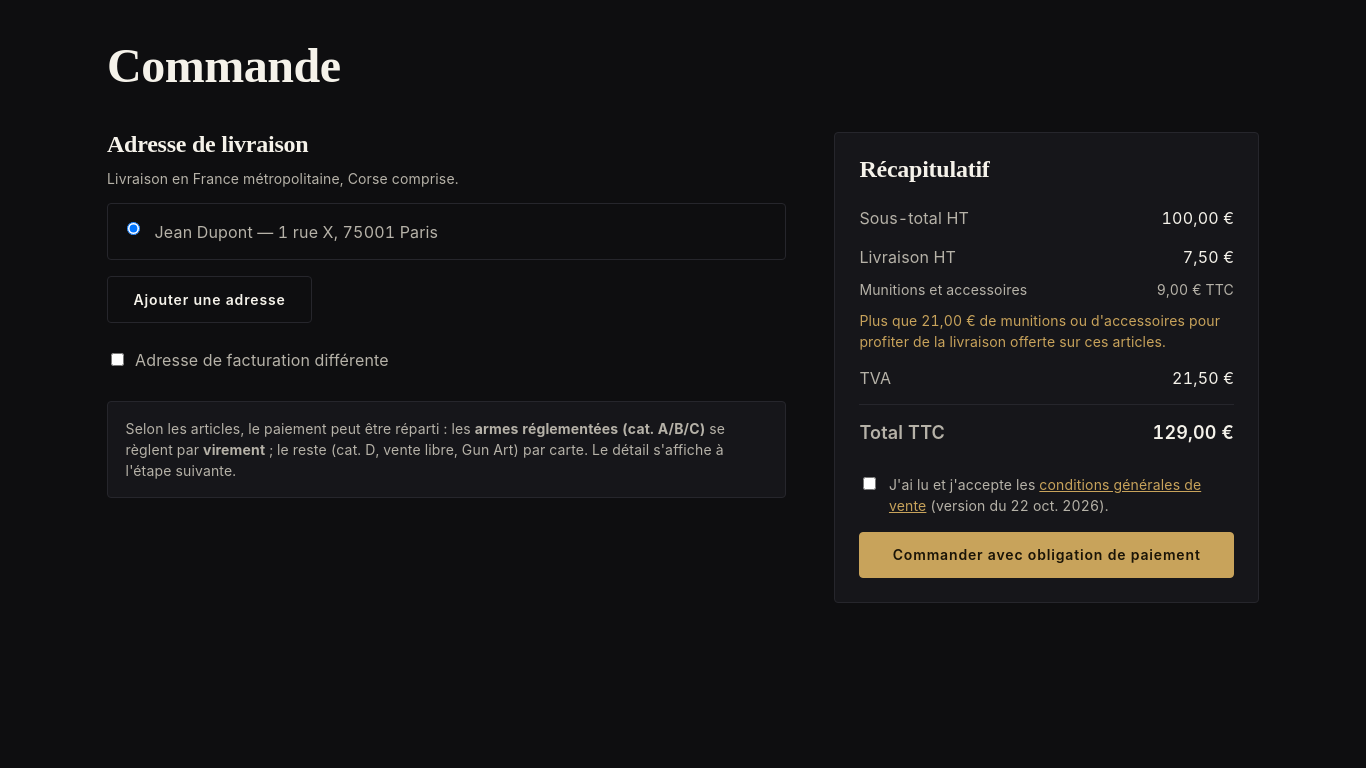
Scenario: commande/index.vue — CGV acceptance (story 12.1) › refuses to order until the CGV are accepted
Click the button with class "summary__cta" at (1047, 555), box [859,532,1234,578]
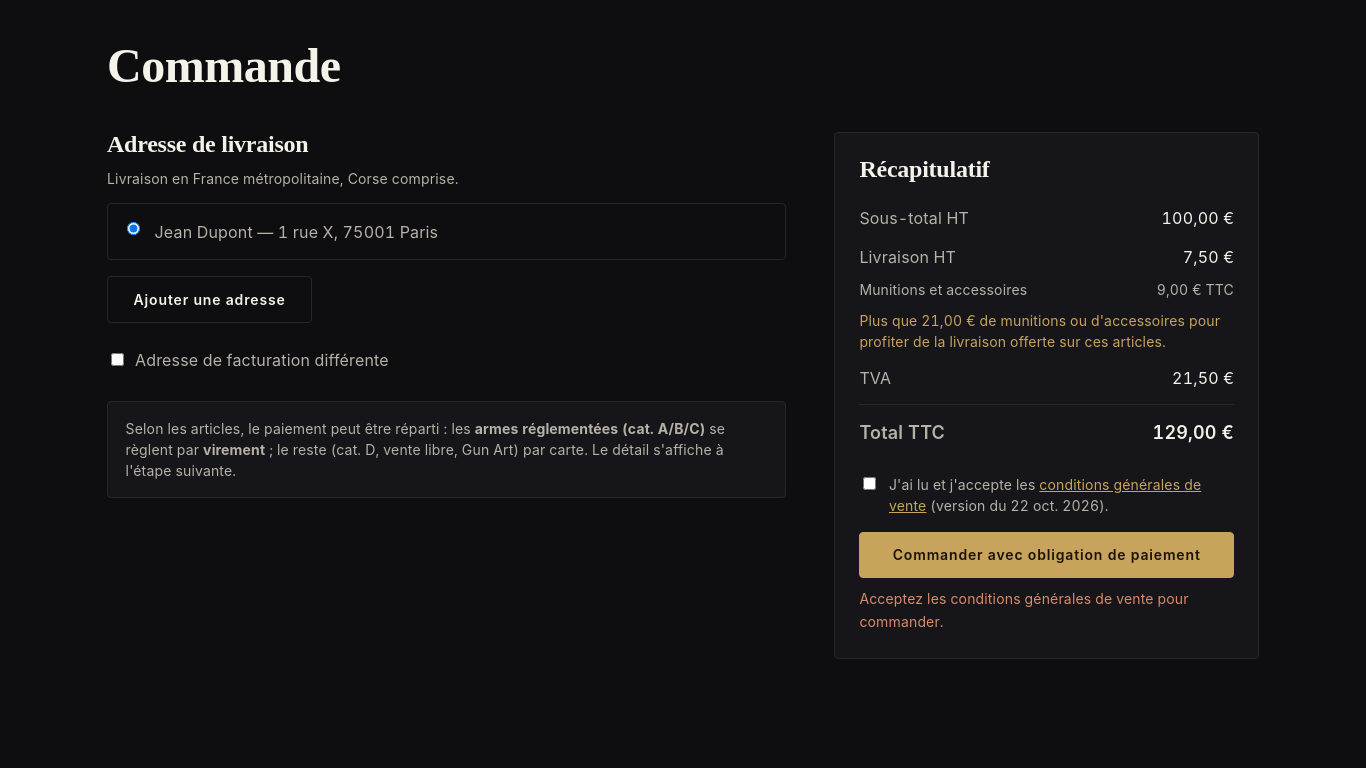
Result: the text "Acceptez les conditions générales de vente pour commander." is shown at [859,587,1234,634]
